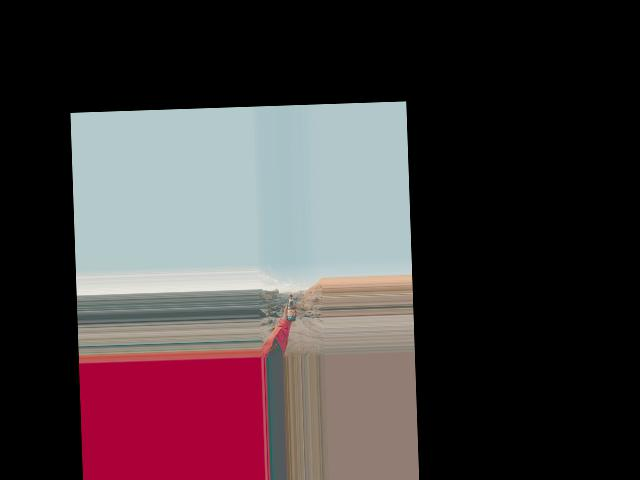beer: (286, 294, 296, 321)
